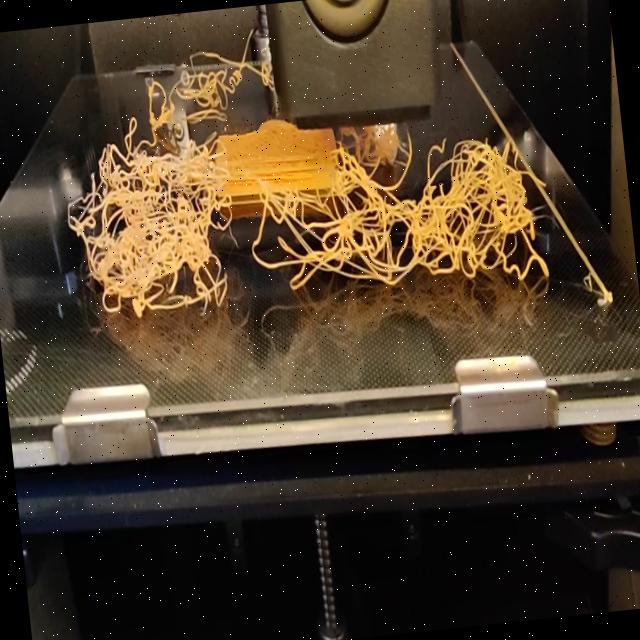spaghetti: (58, 106, 555, 336), (92, 23, 280, 154)
